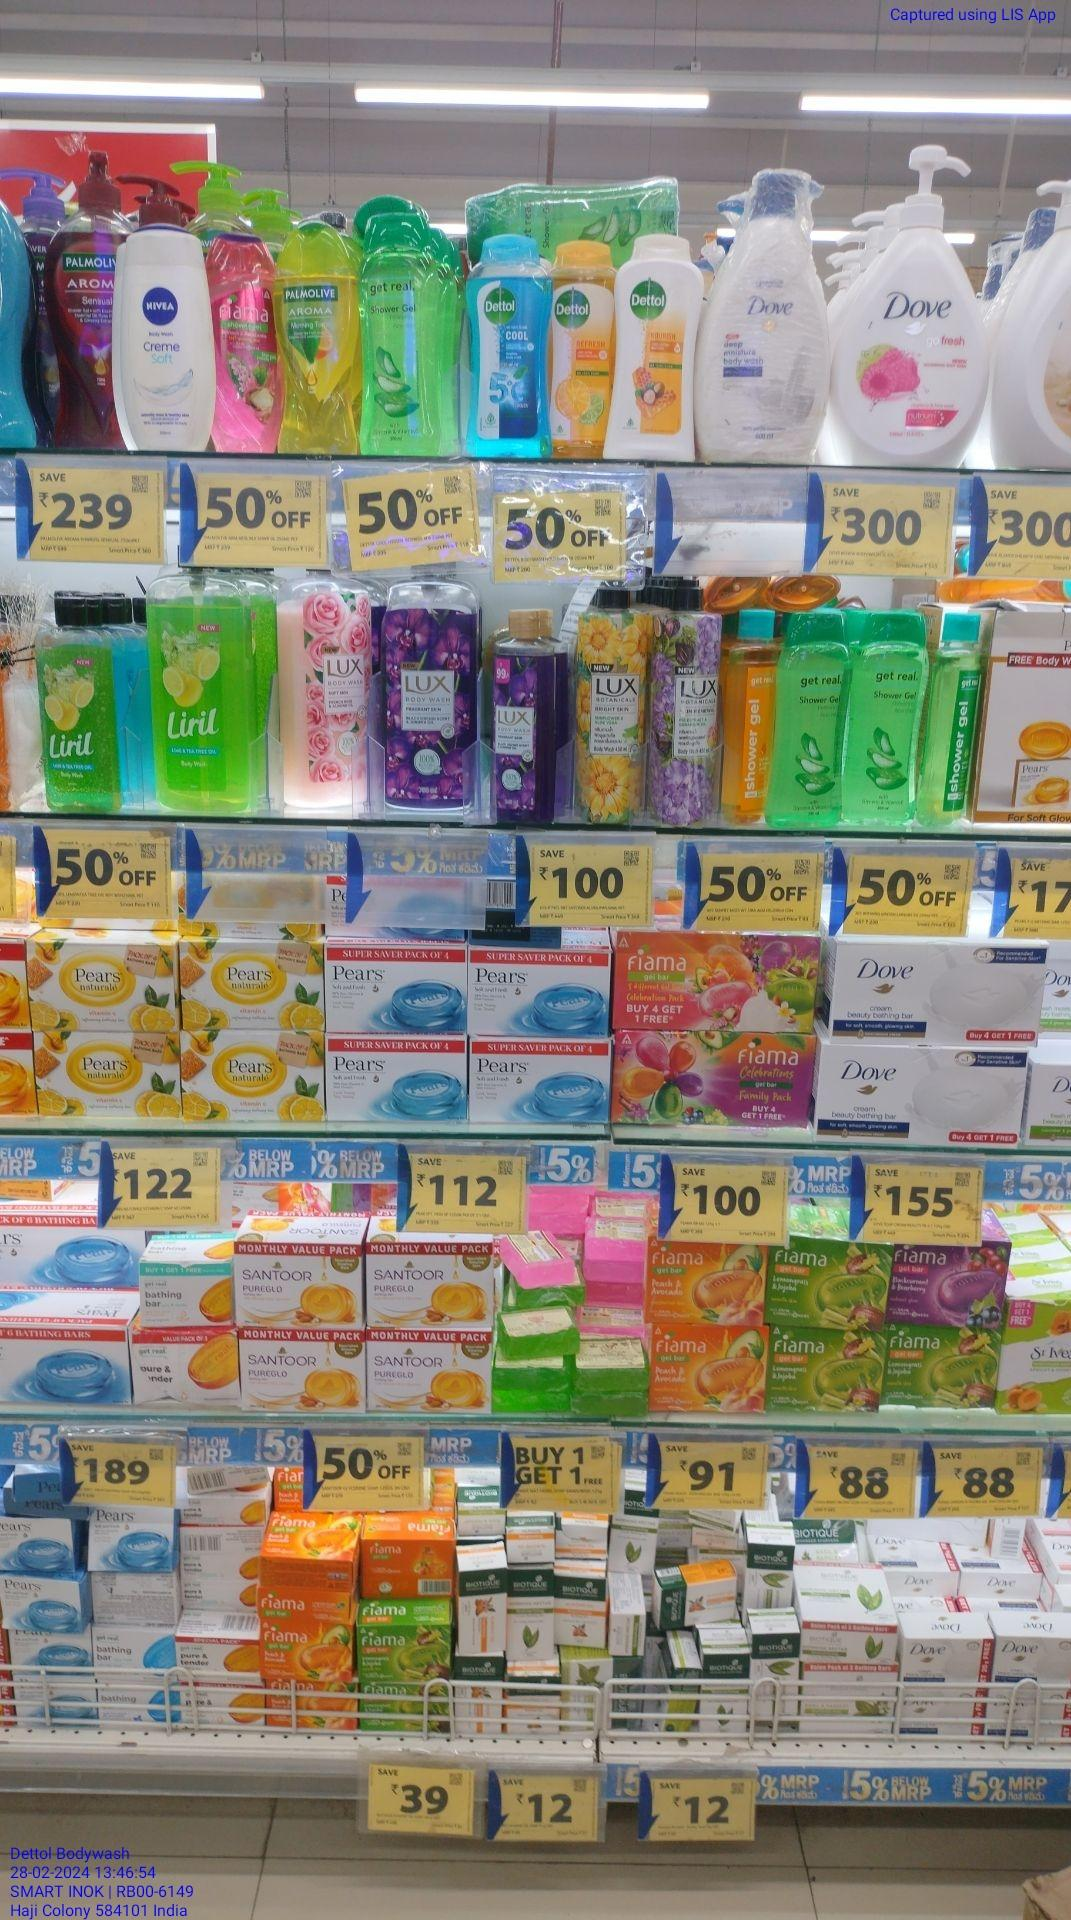Dettol_Bodywash_Cool: (470, 233, 553, 459)
Dettol_Bodywash_Refresh: (553, 229, 609, 462)
Dettol_Nourish_Body_Wash_250ML: (613, 233, 699, 456)
Fiama_Shower_Gel_Patchouli_and_Macadamia_250ML: (215, 232, 274, 456)
Liril_Lime_and_Tea_Tree_Oil_Body_Wash_250ML: (33, 591, 119, 812)
Lux_Black_Orchid_Scent_and_Juniper_Oil_Body_Wash_245ML: (487, 608, 558, 829)
Palmolive_Aroma_Morning_Tonic_Shower_Gel_250ML: (277, 208, 360, 459)
